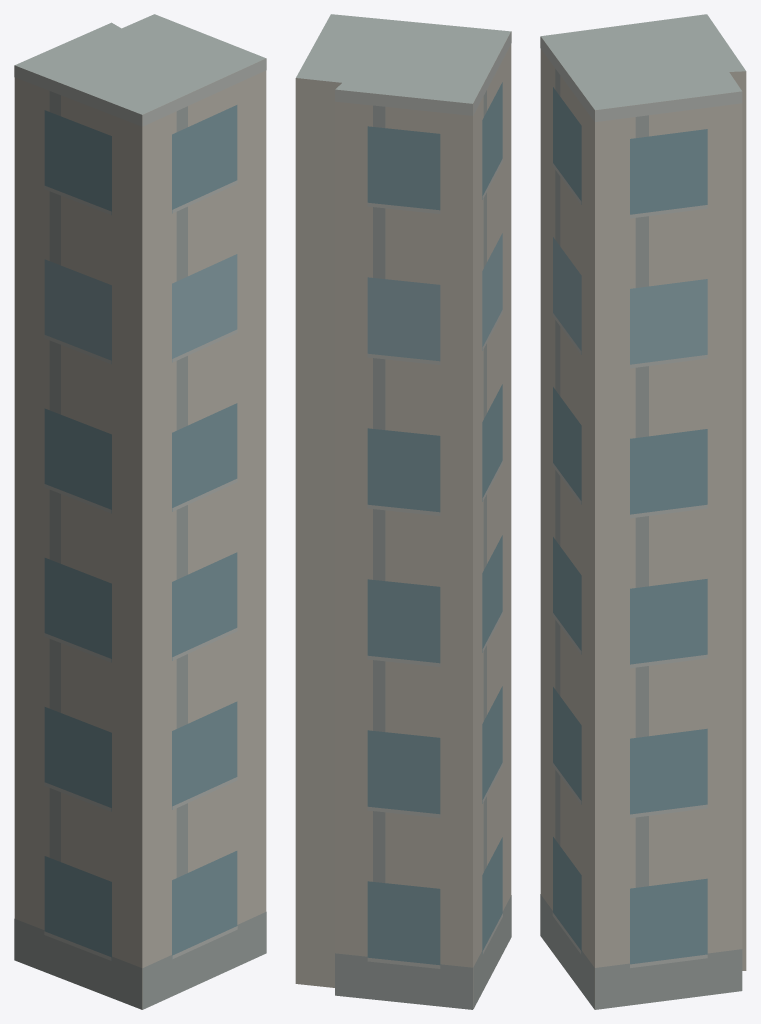
File: survey-upis-32982026.glb
The picture shows the model from 3 angles, left to right: view 1: azimuth 30°, elevation 25°; view 2: azimuth 150°, elevation 25°; view 3: azimuth 270°, elevation 25°; orthographic projection.
Visible parts, largest first — view 1: survey-upis-32982026.tmp; view 2: survey-upis-32982026.tmp; view 3: survey-upis-32982026.tmp.
Part boxes in pixels (bbox=[...]): survey-upis-32982026.tmp: bbox=[14, 14, 266, 1009]; survey-upis-32982026.tmp: bbox=[295, 14, 511, 1009]; survey-upis-32982026.tmp: bbox=[540, 14, 746, 1009].
Size of the model in its own units: 4.21 by 18.3 by 3.8.
